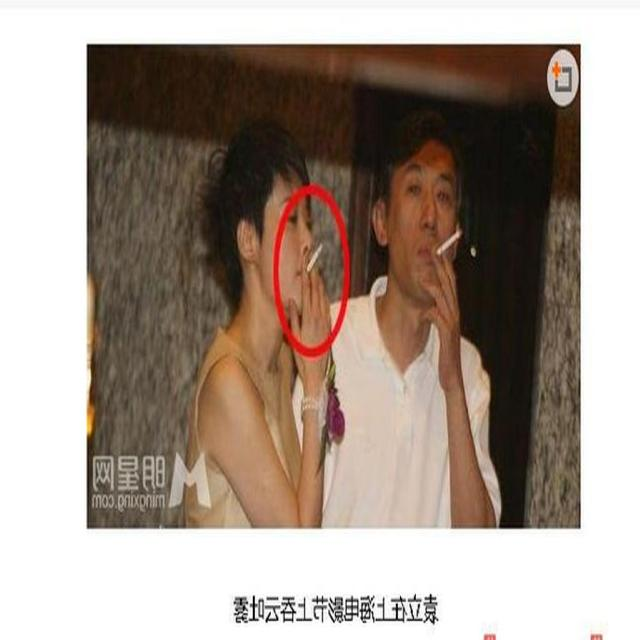smoking: (220, 121, 332, 357), (372, 114, 474, 346)
